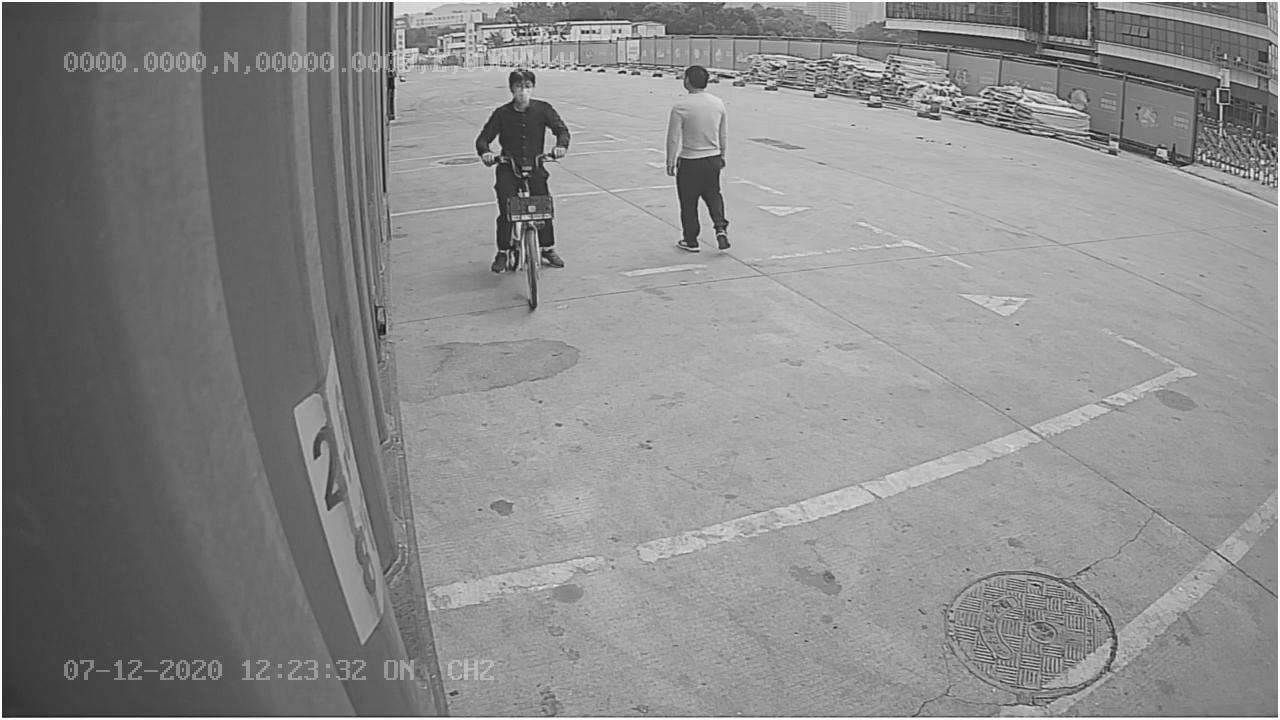person: (661, 62, 738, 254)
